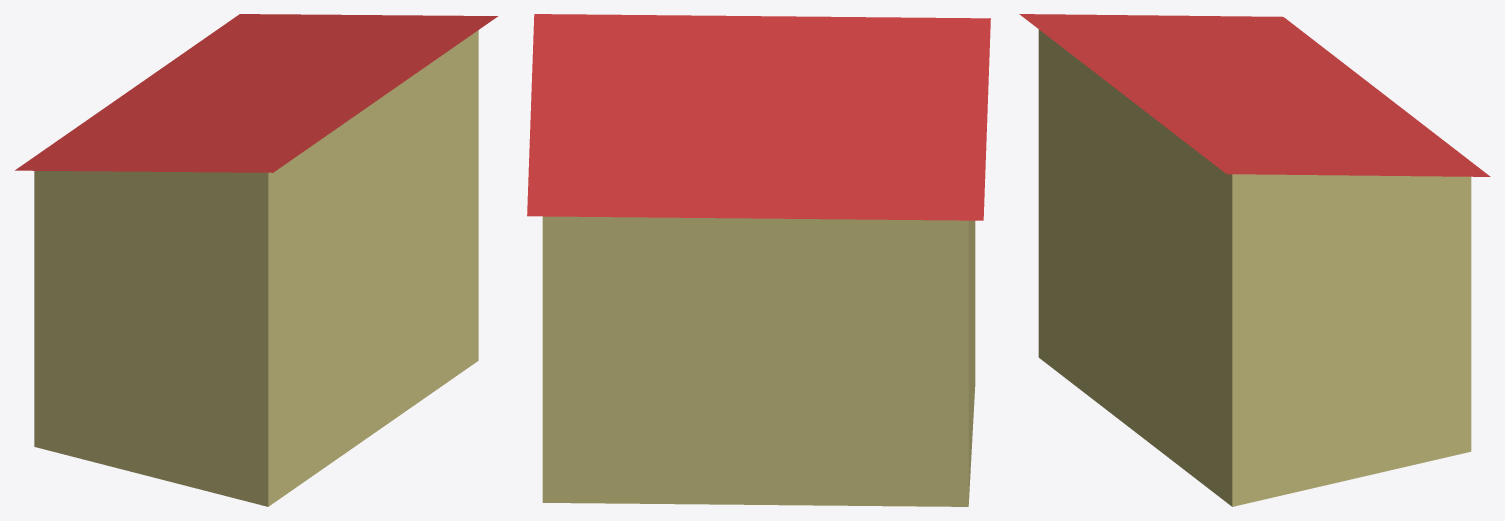
The picture shows the model from 3 angles, left to right: view 1: azimuth 30°, elevation 25°; view 2: azimuth 150°, elevation 25°; view 3: azimuth 270°, elevation 25°; orthographic projection. The views are drawn at different scales.
Bounding box in the file's own units: 9.03 × 8.13 × 6.49.
